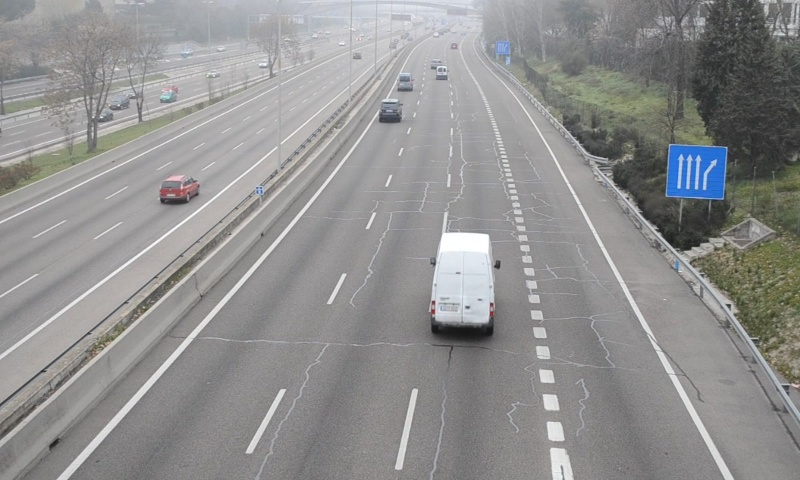car: (378, 98, 402, 123)
van: (429, 233, 496, 334), (396, 72, 413, 92)
